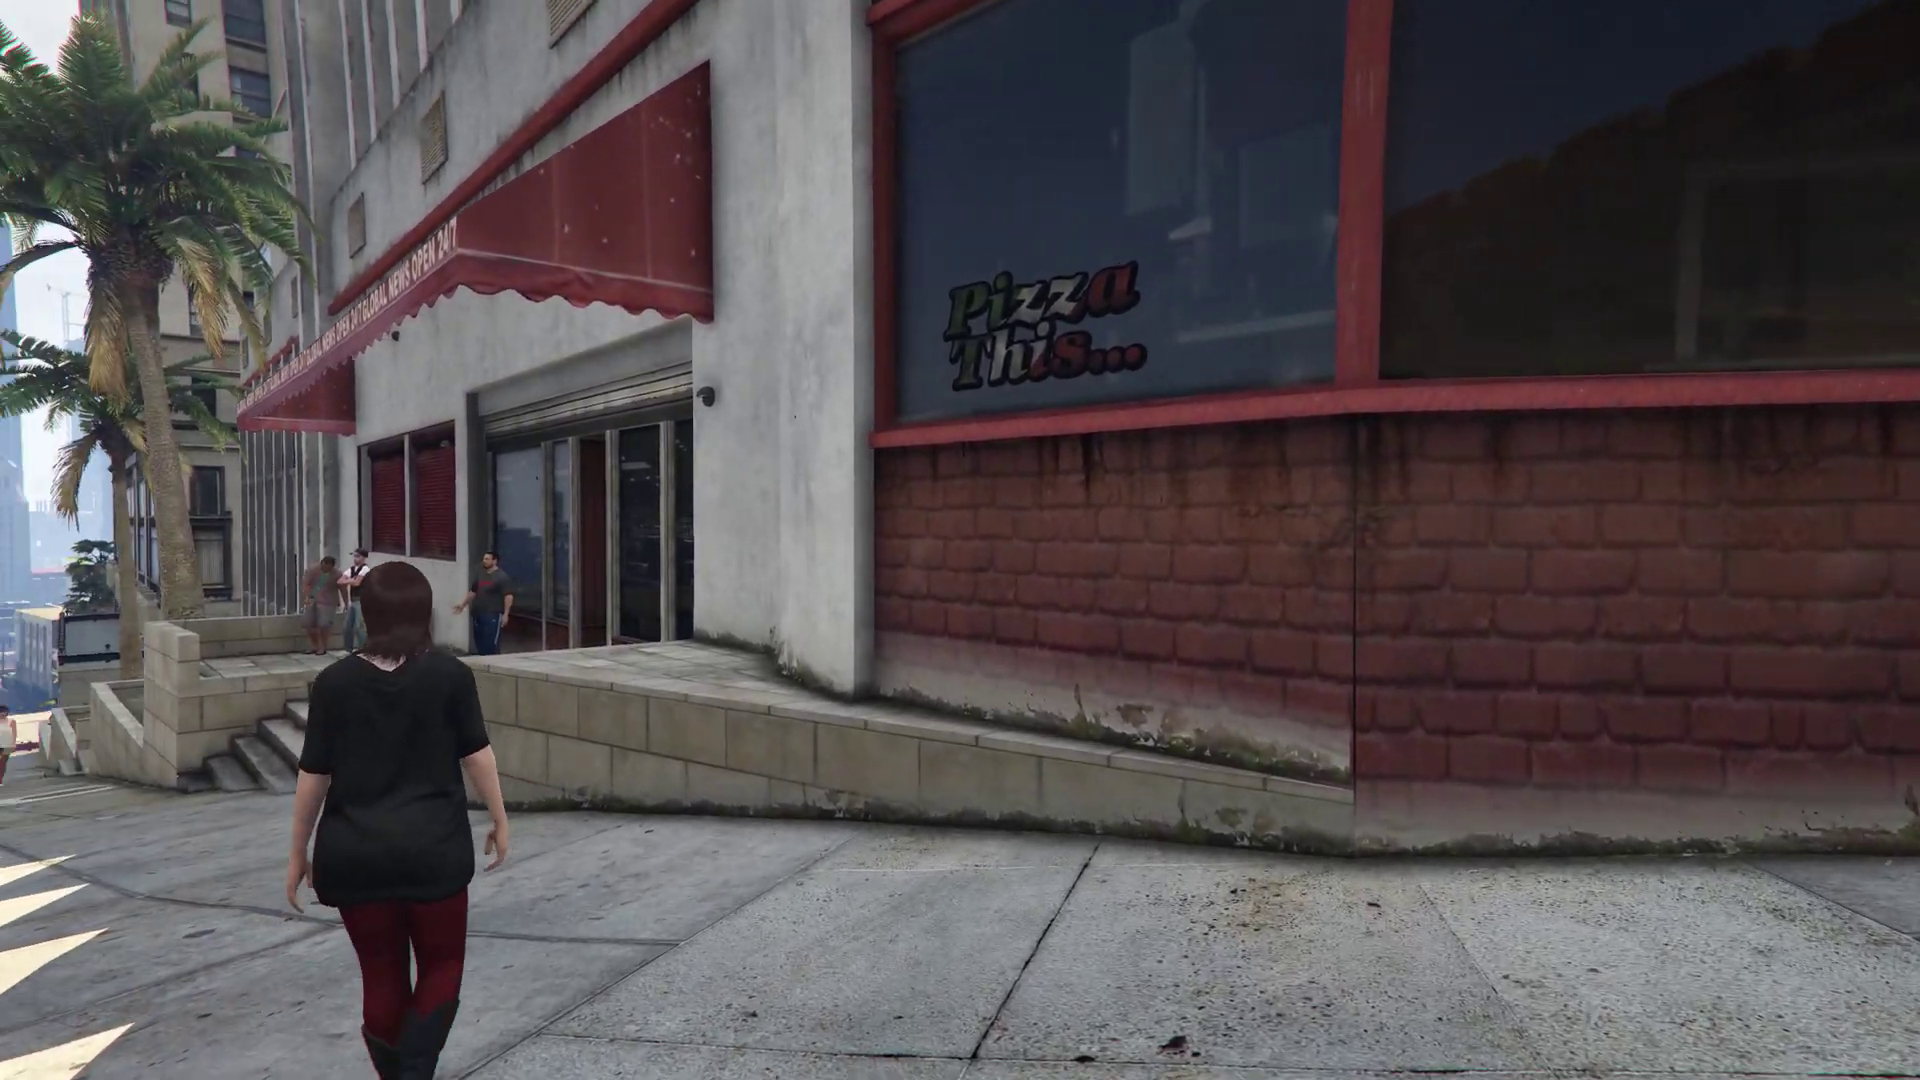person: (288, 562, 512, 1080), (453, 553, 515, 657), (297, 557, 348, 655), (340, 547, 371, 650), (1, 706, 17, 790)
